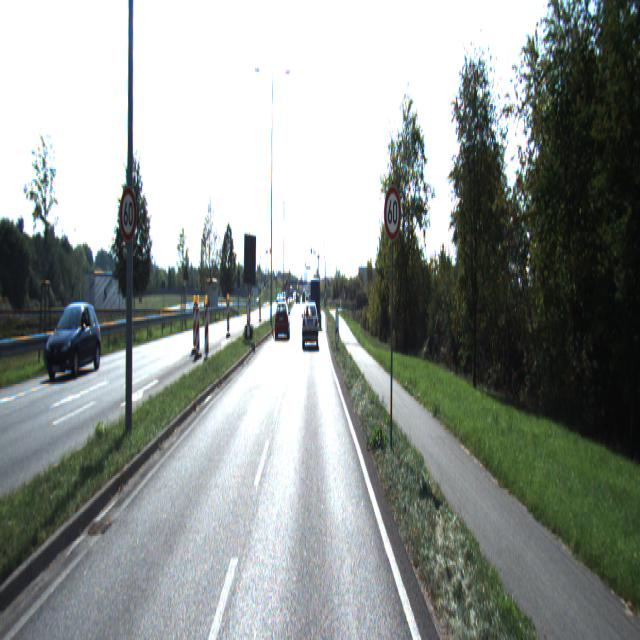Car: (46, 306, 101, 383), (302, 305, 318, 347), (274, 305, 290, 344), (310, 282, 321, 331)
